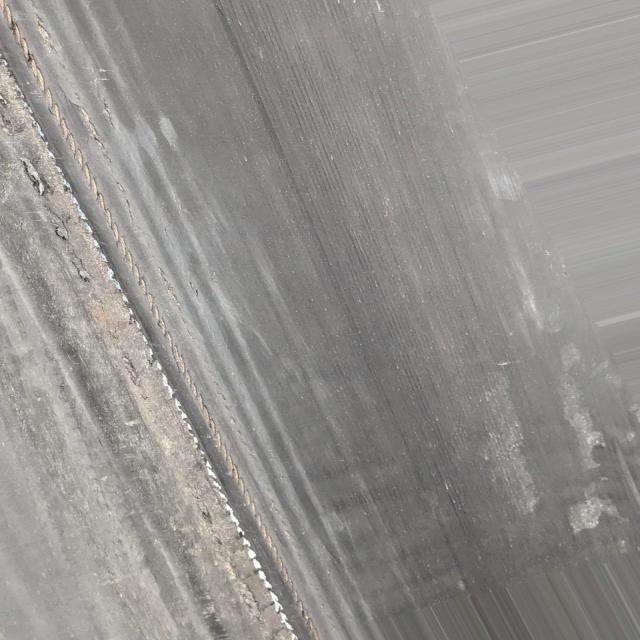Wear: (0, 33, 340, 640)
